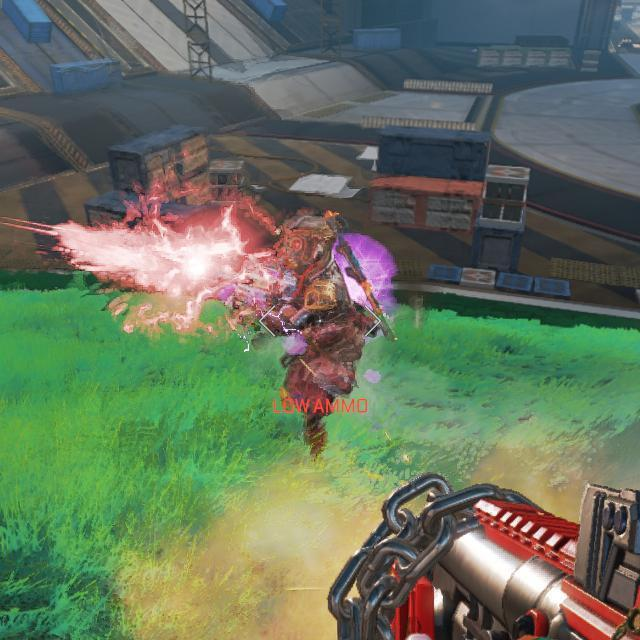avatar: (259, 212, 361, 462)
